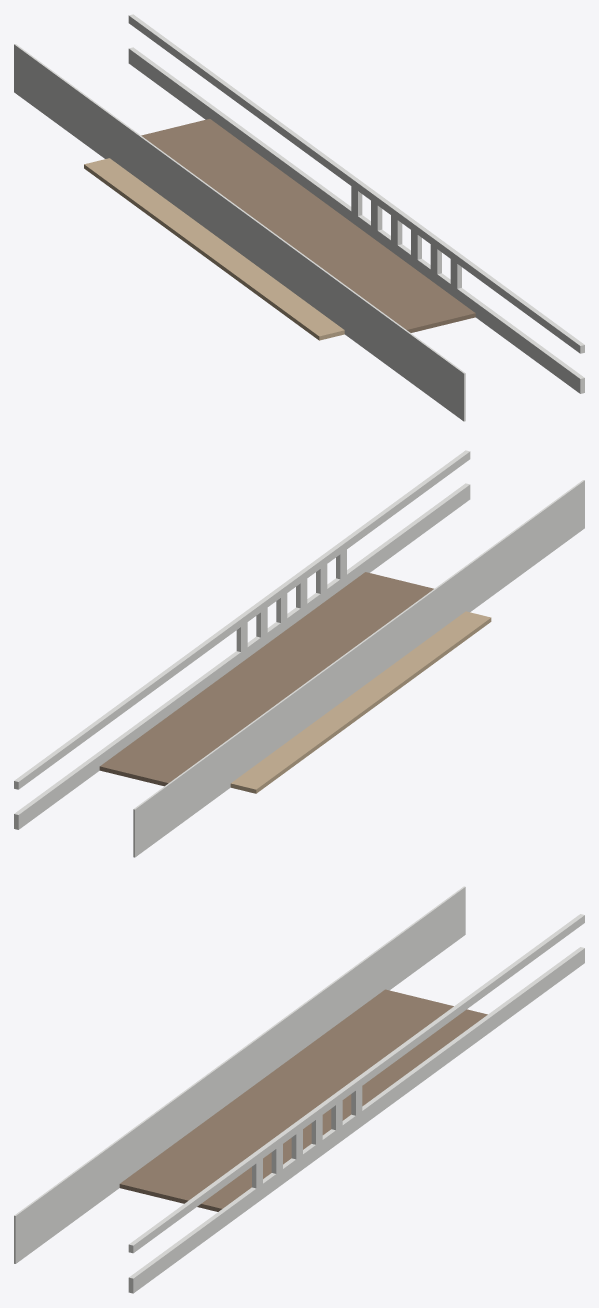
The model's file is SM_Bygg_Helgasetr_P6_O_MS.fbx.
The picture shows the model from 3 angles, top to bottom: view 1: azimuth 30°, elevation 25°; view 2: azimuth 150°, elevation 25°; view 3: azimuth 330°, elevation 25°; orthographic projection.
Visible parts, largest first — view 1: SM_Bygg_Helgasetr_P6_O_MS; view 2: SM_Bygg_Helgasetr_P6_O_MS; view 3: SM_Bygg_Helgasetr_P6_O_MS.
Boxes of the visible parts, x1=… form: SM_Bygg_Helgasetr_P6_O_MS: x1=14, y1=14, x2=584, y2=421; SM_Bygg_Helgasetr_P6_O_MS: x1=14, y1=450, x2=584, y2=857; SM_Bygg_Helgasetr_P6_O_MS: x1=14, y1=886, x2=584, y2=1293.
Size of the model in its own units: 68.17 by 12.7 by 4.
